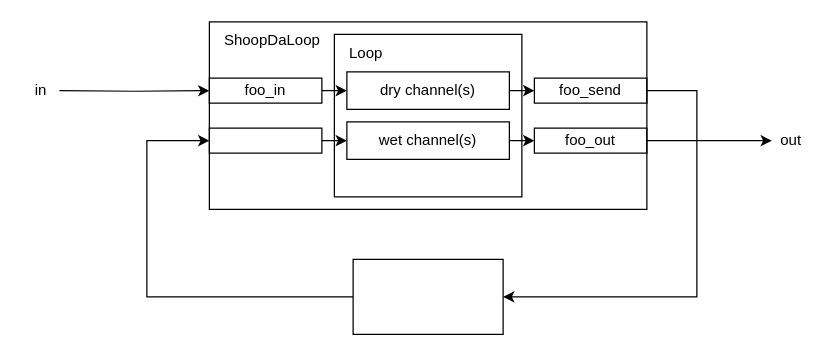
This 836x356 diagram has some shape labels left out. Here are the shapes that lost their labels. From the top down, the centre of each, then its label:
At pixel 265 140: "foo_return".
At pixel 427 296: "External FX/Synth".
